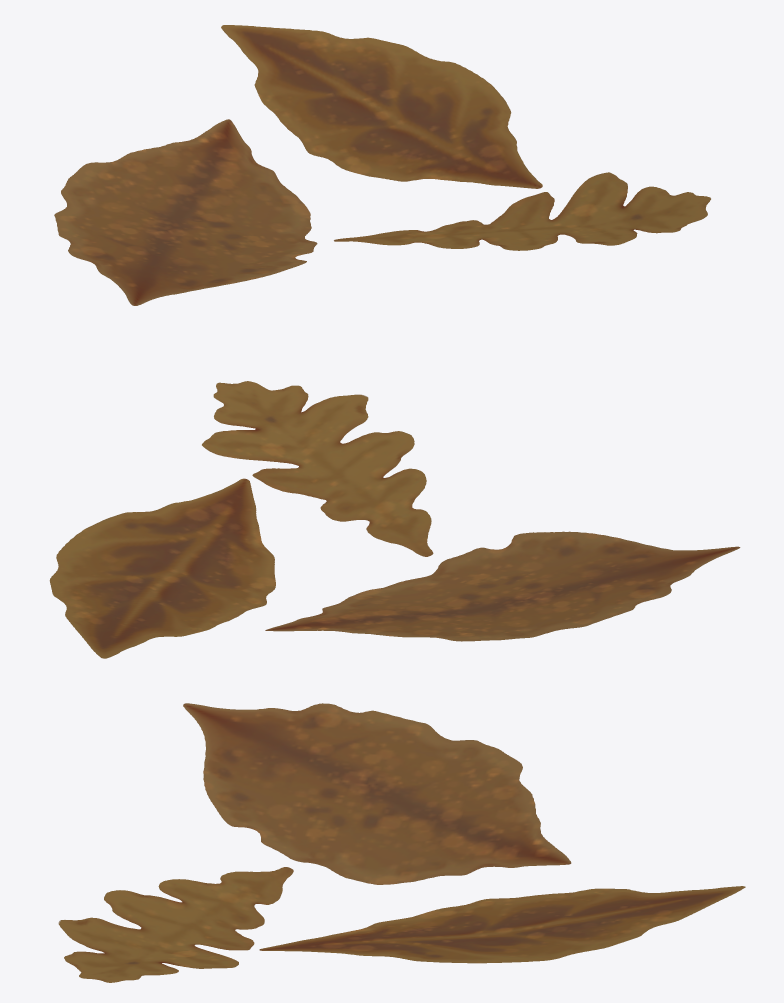
File: MSH_fwOF_Leaves_05.fbx
3 renders of one model, top to bottom at view 1: azimuth 30°, elevation 25°; view 2: azimuth 150°, elevation 25°; view 3: azimuth 270°, elevation 25°, orthographic. The views are drawn at different scales.
Parts seen in each view (by area): view 1: MSH_fwOF_Leaves_05; view 2: MSH_fwOF_Leaves_05; view 3: MSH_fwOF_Leaves_05.
Part boxes in pixels (<box>): MSH_fwOF_Leaves_05: <box>54,25,710,305</box>; MSH_fwOF_Leaves_05: <box>49,381,740,658</box>; MSH_fwOF_Leaves_05: <box>58,703,745,982</box>.
Bounding box in the file's own units: 0.2214 × 0.0177 × 0.2387.
